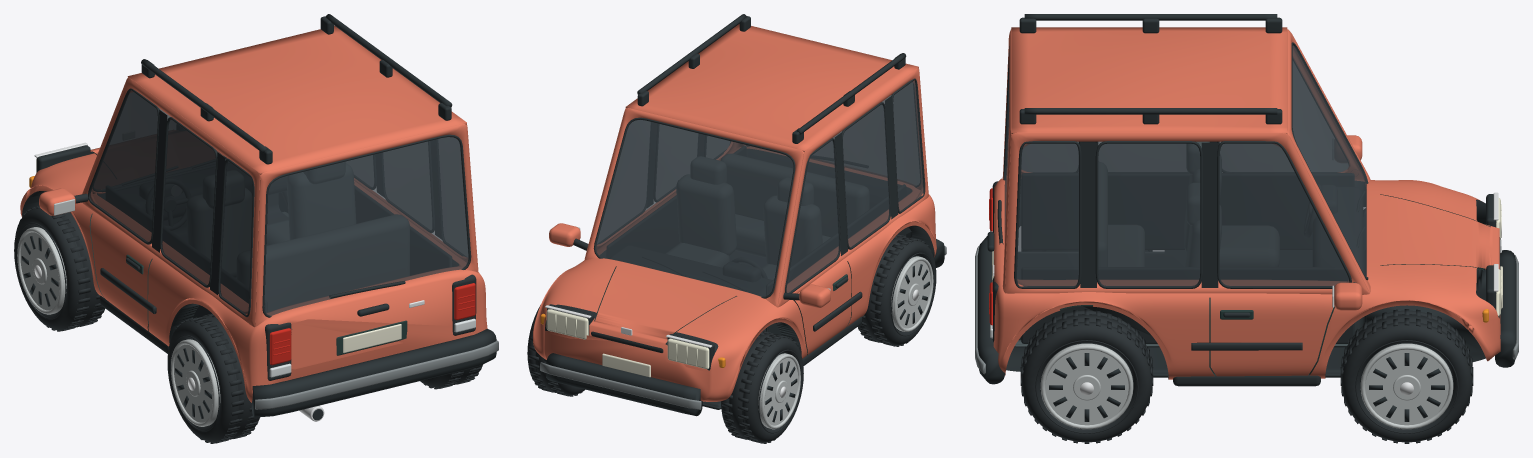
Rendered from tallboy.fbx.
3 views of the same model, side by side, from view 1: azimuth 30°, elevation 25°; view 2: azimuth 150°, elevation 25°; view 3: azimuth 270°, elevation 25° (orthographic). The views are drawn at different scales.
Visible parts, largest first — view 1: Body, Wheel_RL_Mesh, Wheel_FL_Mesh, Wheel_RR_Mesh; view 2: Body, Wheel_FL_Mesh, Wheel_RL_Mesh, Wheel_FR_Mesh; view 3: Body, Wheel_FR_Mesh, Wheel_RR_Mesh.
Boxes of the visible parts, x1,y1,x2,y2 form: Body: (20,14,498,421); Wheel_RL_Mesh: (167,313,259,443); Wheel_FL_Mesh: (14,206,105,331); Wheel_RR_Mesh: (420,364,482,389); Body: (533,14,946,416); Wheel_FL_Mesh: (721,331,803,443); Wheel_RL_Mesh: (858,234,936,346); Wheel_FR_Mesh: (527,305,584,396); Body: (975,14,1518,386); Wheel_FR_Mesh: (1340,309,1473,443); Wheel_RR_Mesh: (1020,309,1153,443).
Size of the model in its own units: 227 by 209 by 323.
